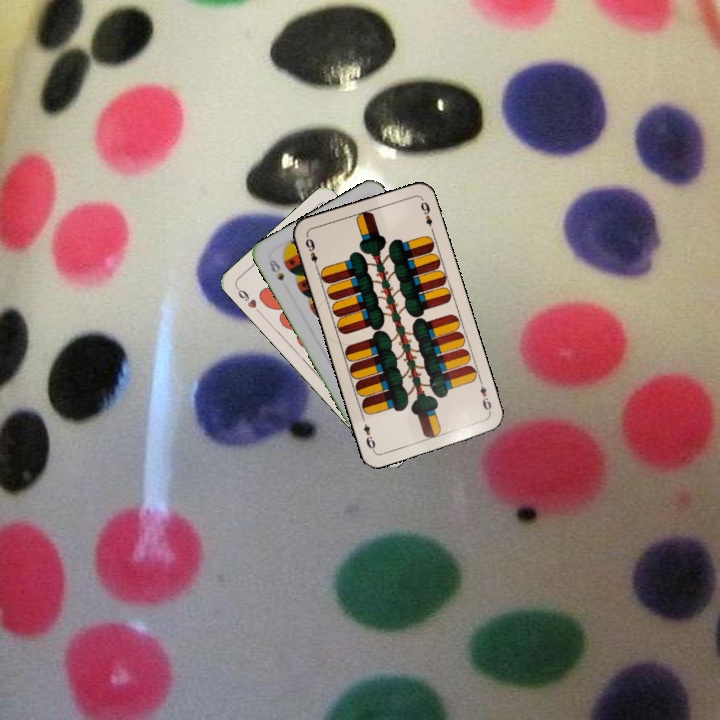E9: (301, 234, 321, 272), (475, 376, 494, 416)
H9: (232, 282, 263, 316)
S8: (265, 256, 287, 284)
